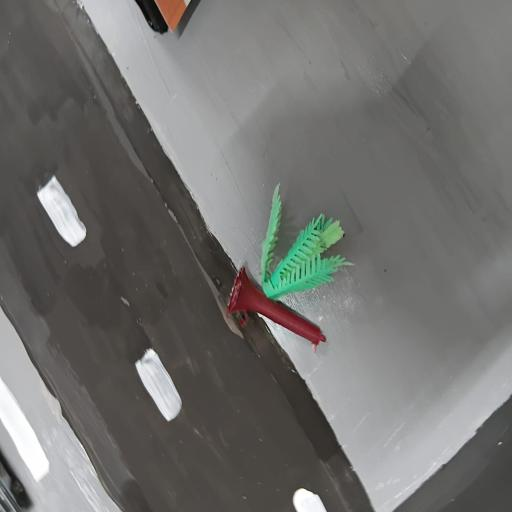fallen trees: (220, 176, 358, 353)
